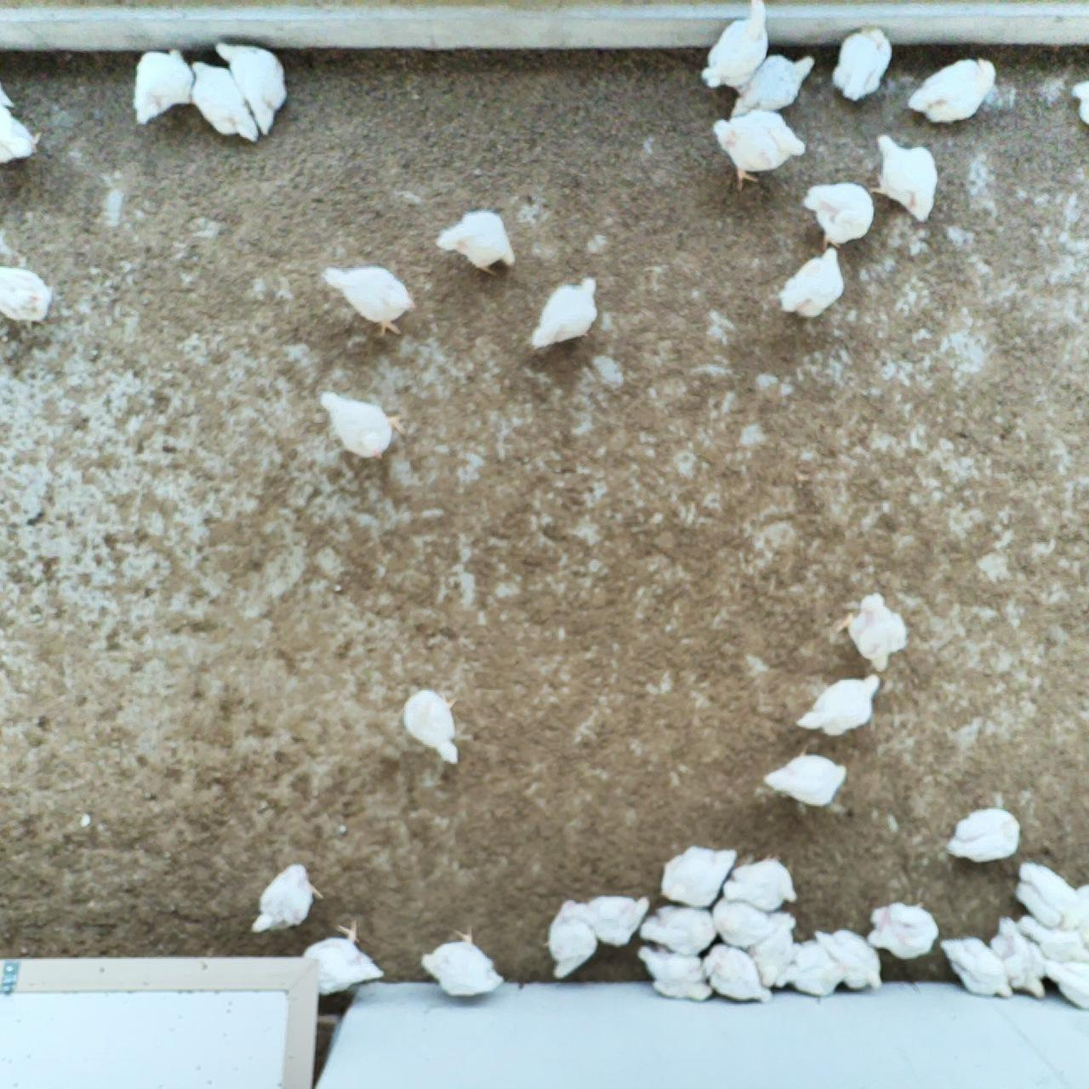chicken: (710, 109, 811, 190), (210, 41, 290, 138), (862, 130, 942, 225), (700, 0, 774, 99), (320, 263, 417, 338), (297, 918, 383, 1001), (182, 60, 261, 146), (317, 388, 406, 463), (908, 56, 998, 130), (1008, 858, 1089, 940), (727, 51, 819, 121), (790, 669, 880, 740), (434, 205, 519, 278), (840, 591, 913, 675), (421, 929, 507, 1000), (526, 275, 602, 351), (935, 935, 1015, 1006), (985, 918, 1048, 1008), (130, 46, 198, 127), (656, 840, 738, 907), (774, 246, 847, 321), (800, 180, 876, 252), (253, 859, 322, 937), (543, 894, 602, 984), (401, 685, 464, 768), (831, 22, 893, 106), (766, 749, 852, 808), (777, 933, 849, 1001), (635, 945, 717, 1004), (700, 943, 776, 1005), (946, 802, 1021, 864), (865, 903, 944, 961), (638, 905, 721, 959), (814, 927, 882, 991), (1009, 913, 1089, 966), (744, 910, 801, 984), (584, 889, 655, 948), (723, 857, 802, 910), (0, 83, 45, 168), (707, 891, 773, 945), (0, 262, 56, 325), (1036, 953, 1089, 1014), (1069, 76, 1089, 134)
